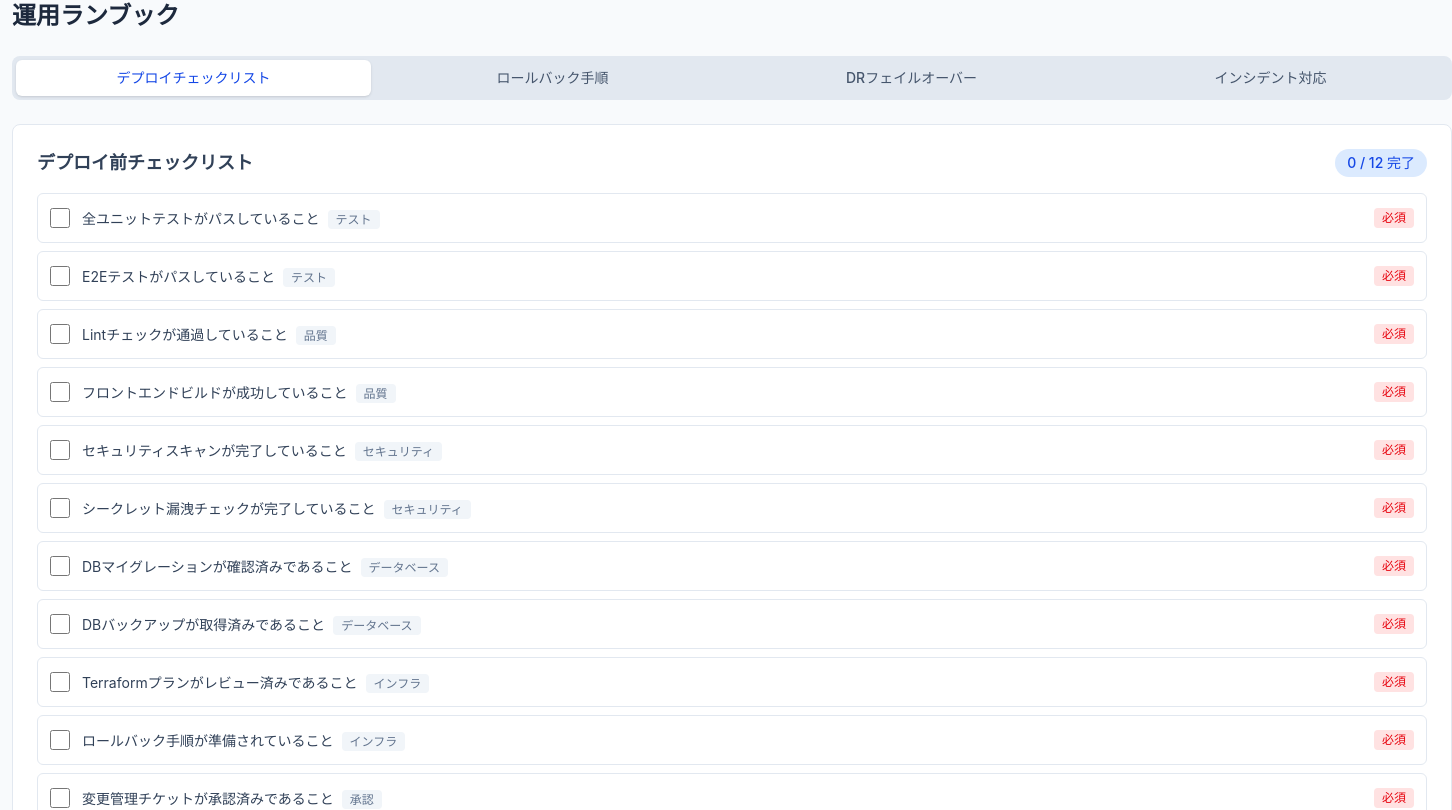
Test case: RunbookPage DR failover tab › renders DR step actions with step numbers
The width and height of the screenshot is (1452, 810).
Click the button "DRフェイルオーバー": (912, 78) [734,60,1089,96]
(page scrolled)
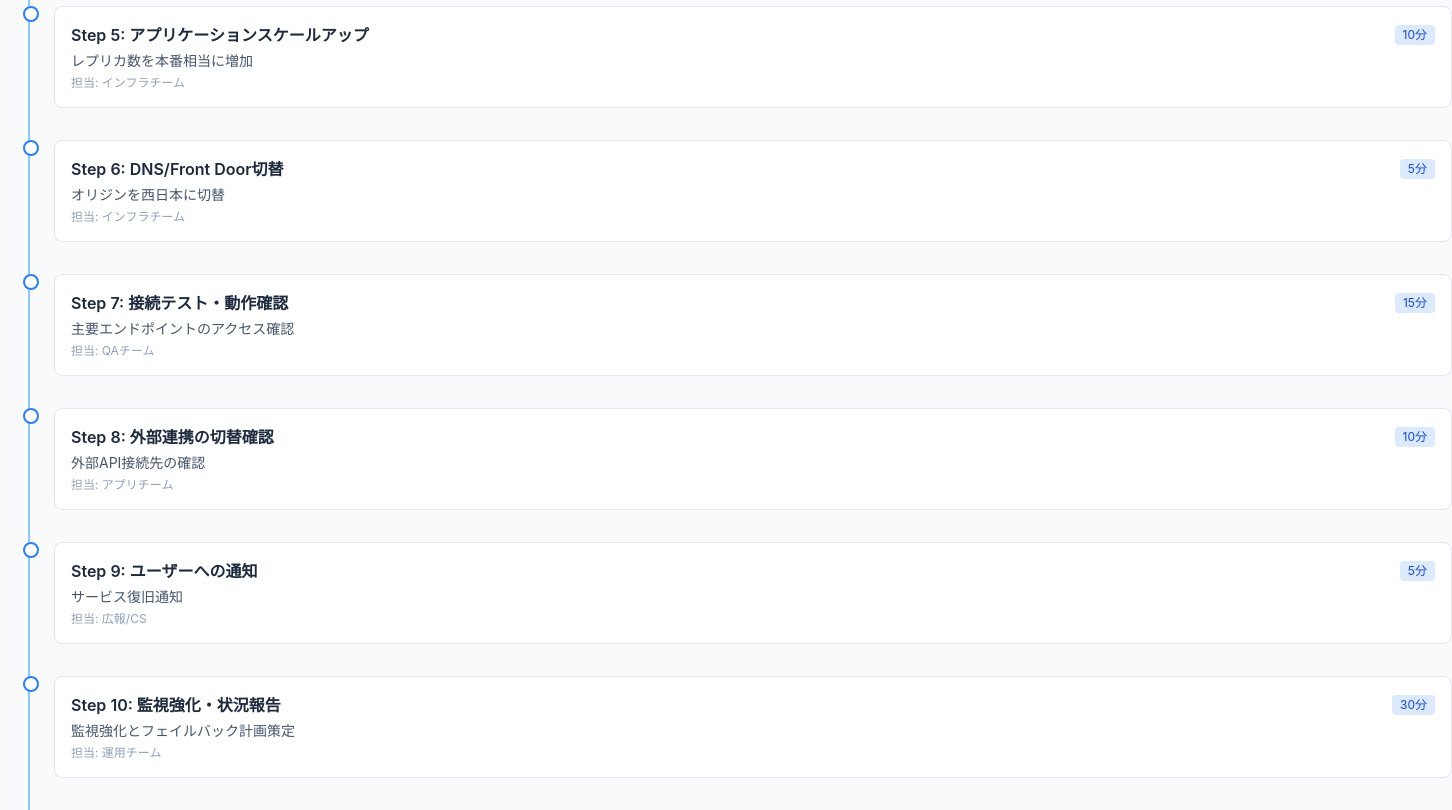
Result: the heading "Step 10: 監視強化・状況報告" is shown at [71,693,281,717]
